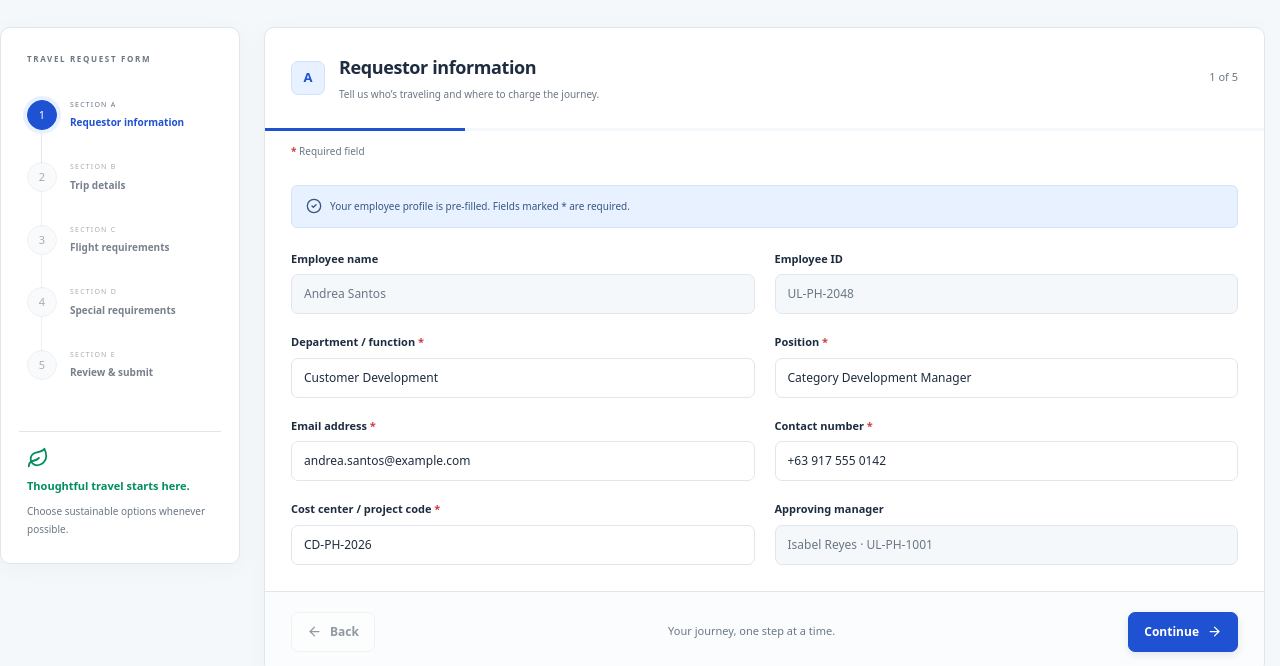
keeps a cleared required date empty until it is explicitly selected again
(page scrolled)
Click the button "Continue": (1183, 632) [1128,612,1238,652]
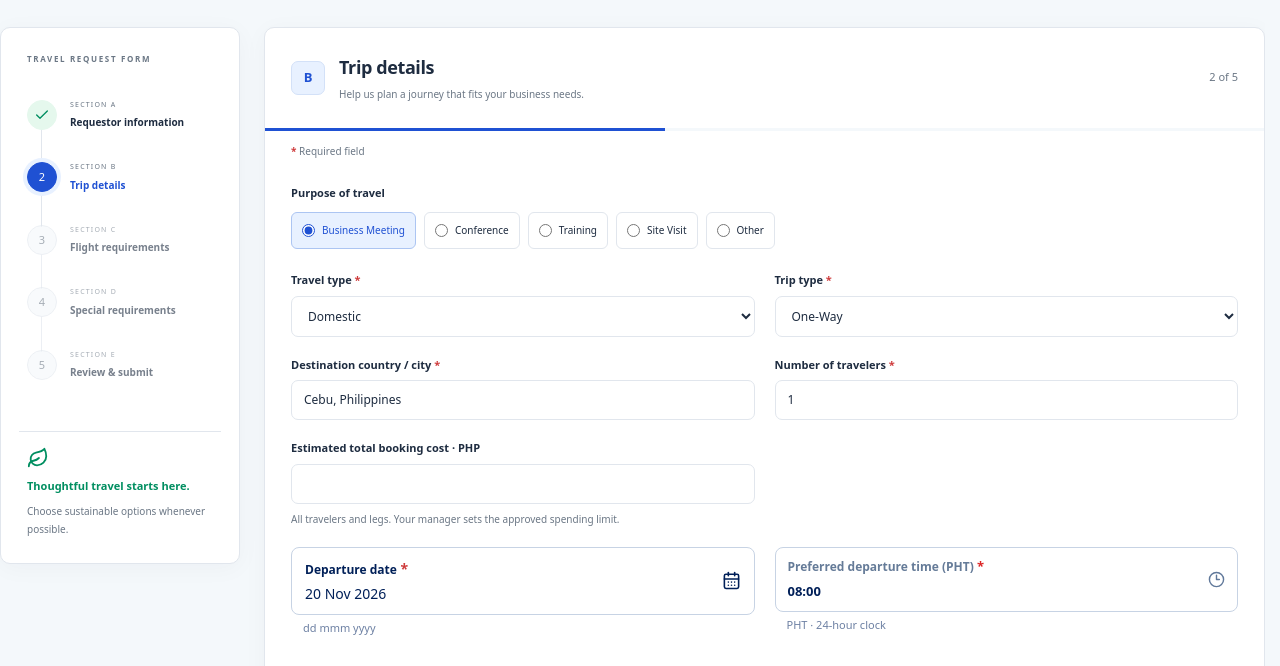
expect the heading "Trip details" is shown: met, box [339,54,434,78]
Click the button "Departure date * 20 Nov 2026": (351, 569) [291,546,754,614]
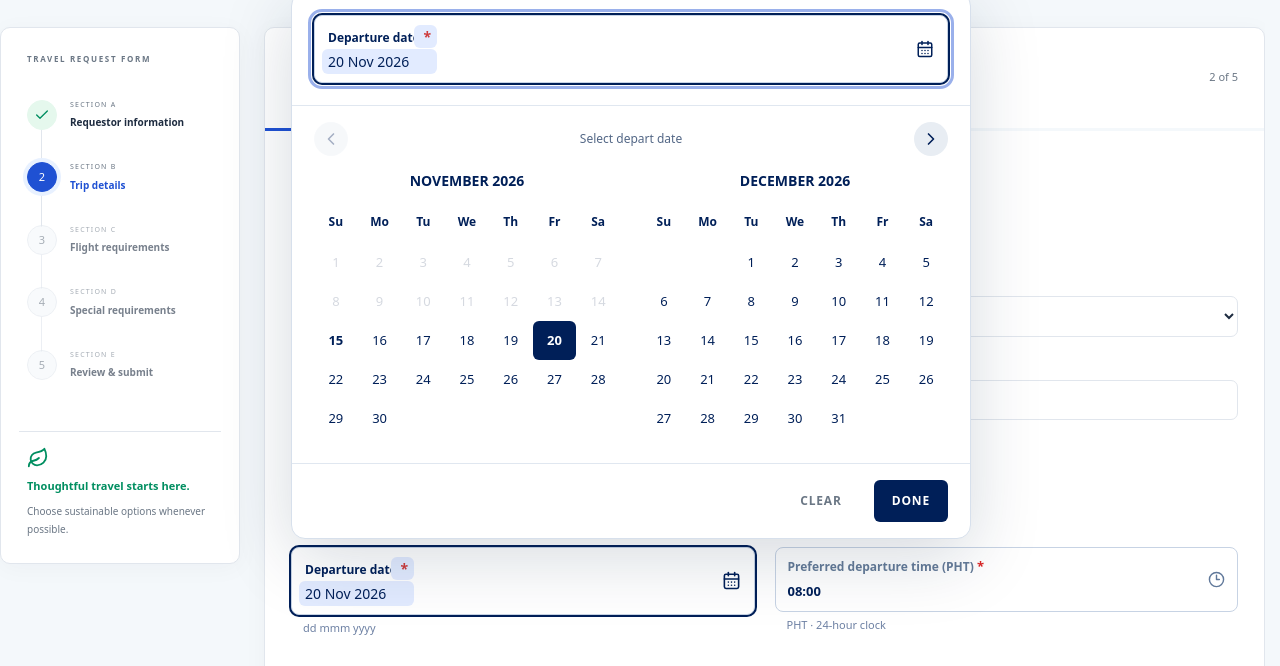
Click the button "CLEAR": (821, 501) [782,480,860,522]
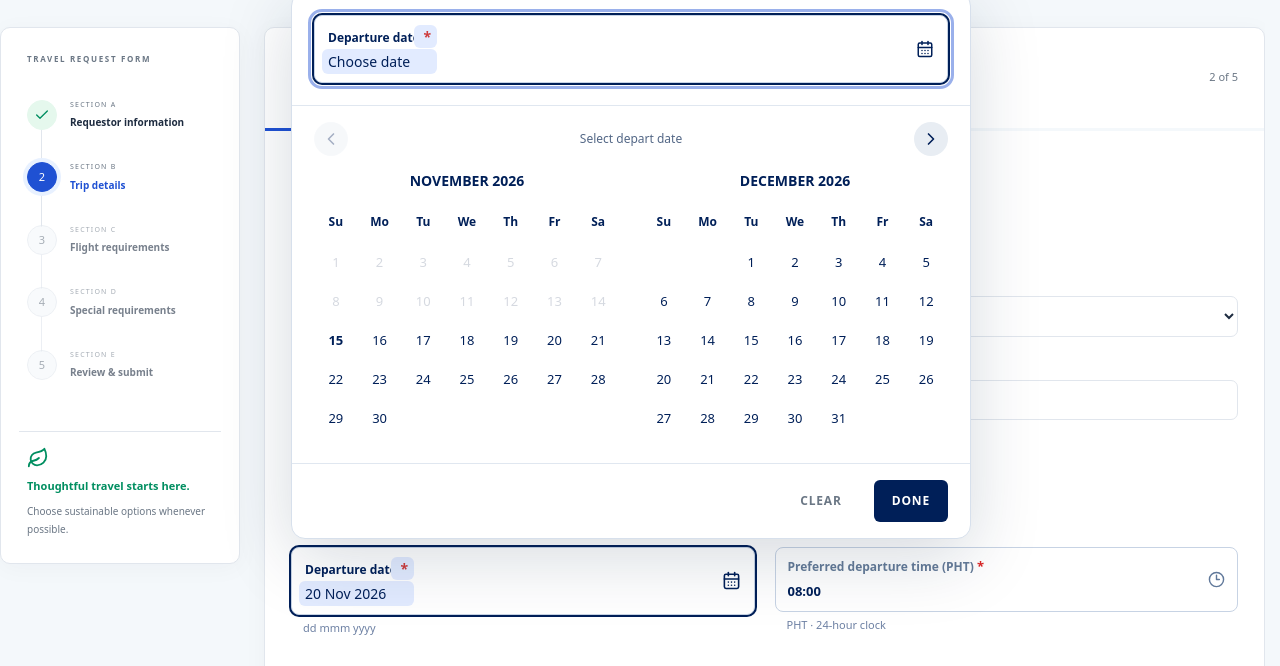
Click the button "DONE": (911, 501) [874,480,948,522]
(page scrolled)
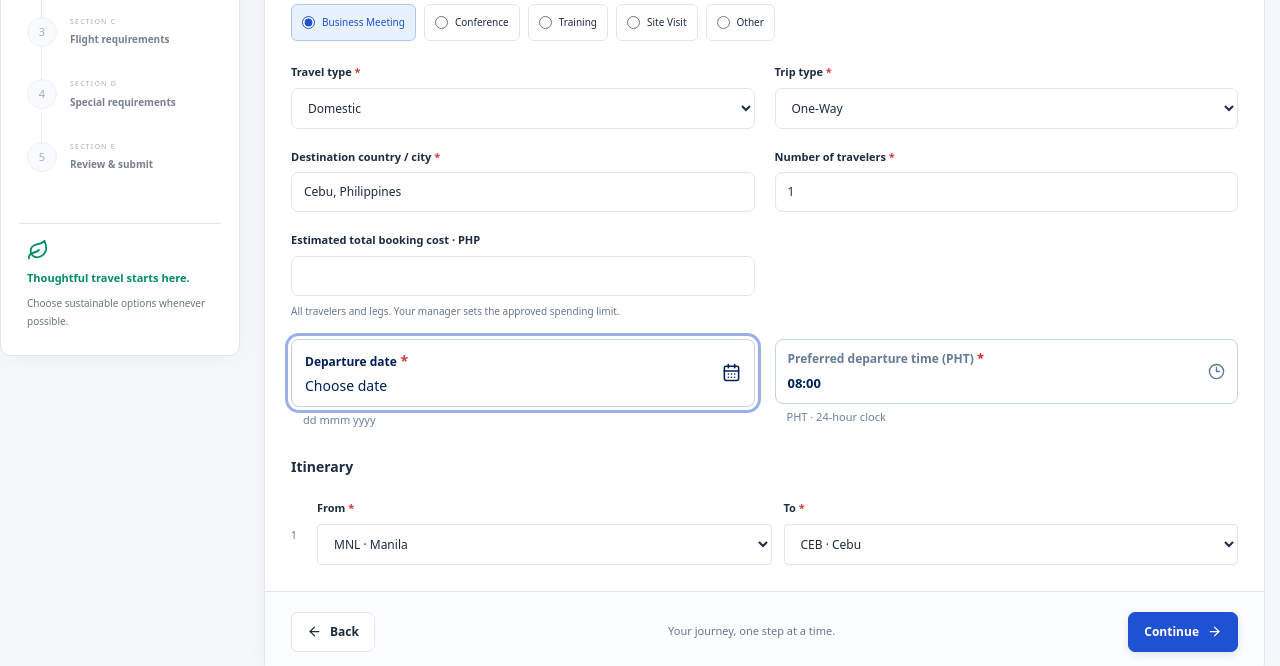
Click the button "Continue": (1183, 632) [1128,612,1238,652]
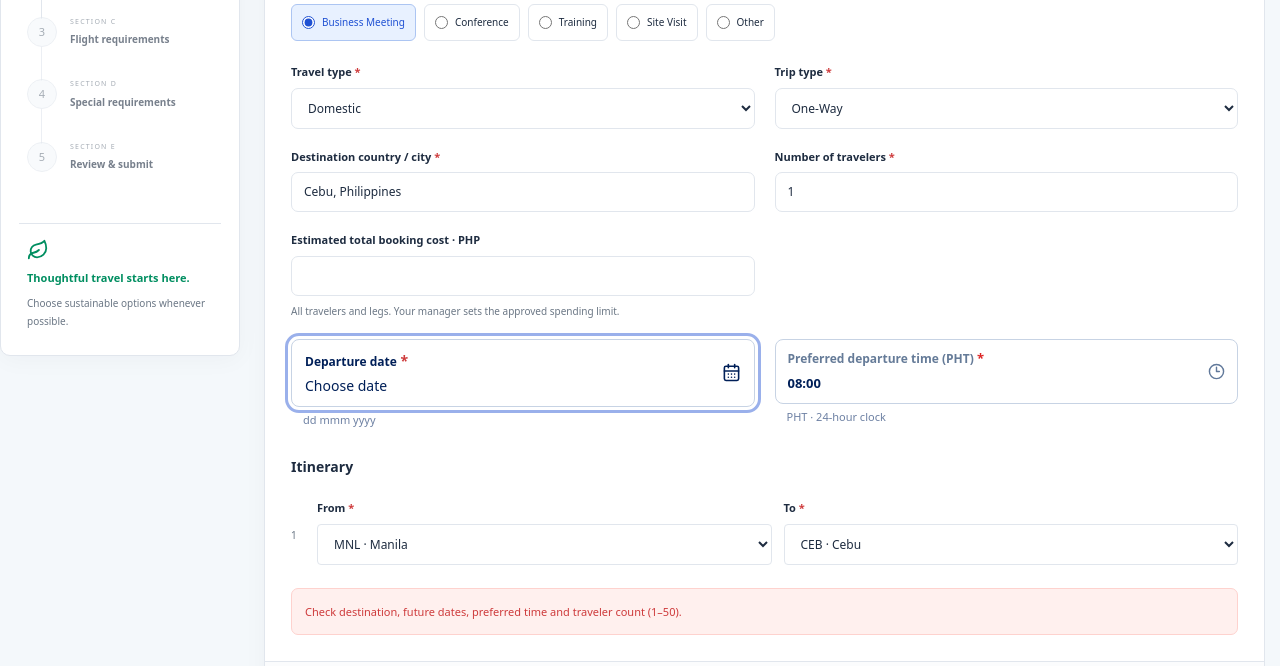
expect the button with aria-label "Departure date: Choose date" is shown: met, box [291,338,754,406]
expect the message shows "future dates": met, box [305,604,682,618]
